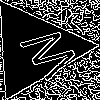W: (10, 23, 82, 88)
